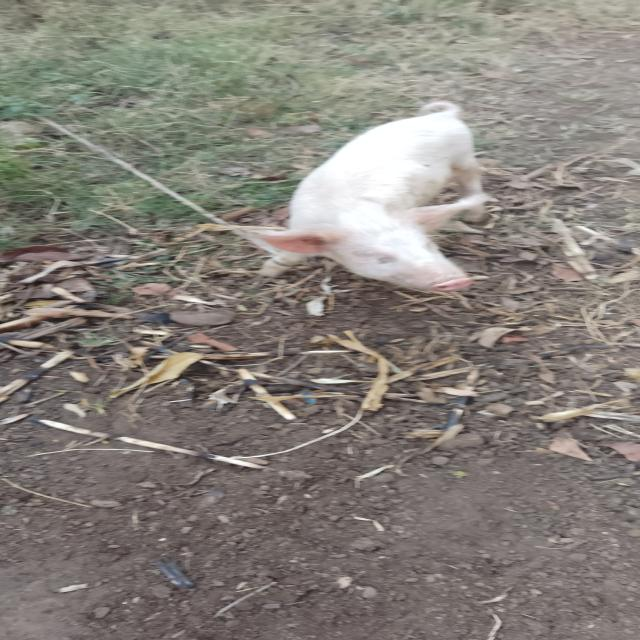pig: (185, 83, 564, 315)
